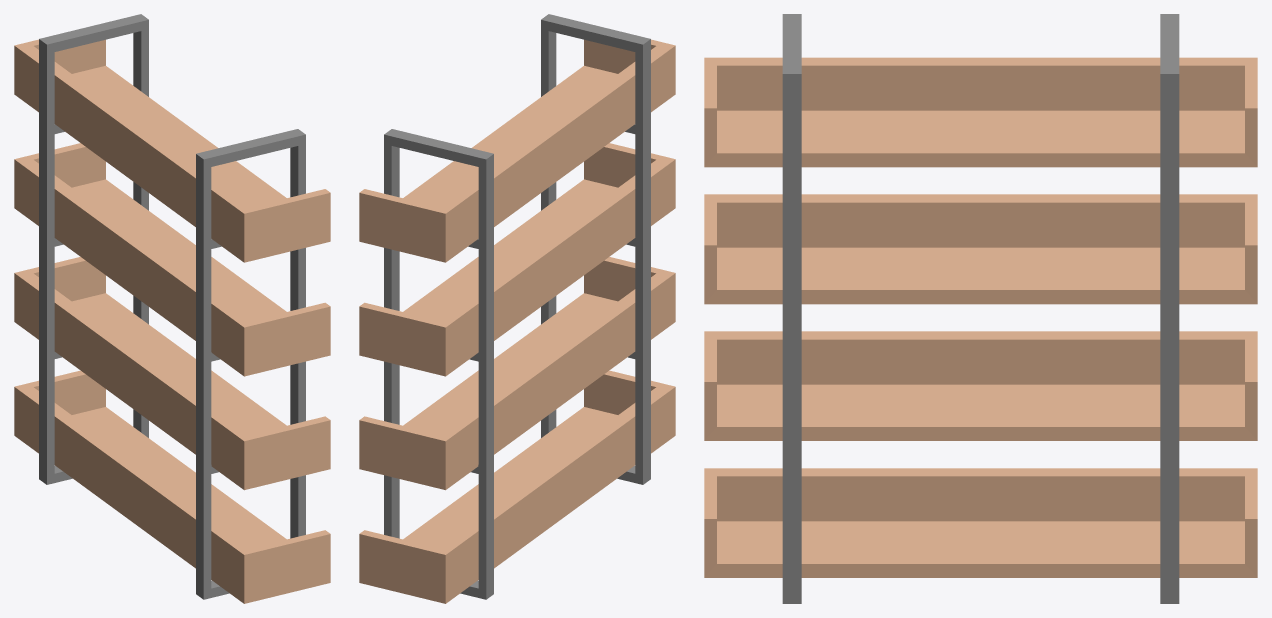
Rendered from furniture_2.FBX.
3 views of the same model, side by side, from view 1: azimuth 30°, elevation 25°; view 2: azimuth 150°, elevation 25°; view 3: azimuth 270°, elevation 25° (orthographic). The views are drawn at different scales.
Visible parts, largest first — view 1: furniture_2; view 2: furniture_2; view 3: furniture_2.
Boxes of the visible parts, <box> form: furniture_2: <box>14,14,330,603</box>; furniture_2: <box>359,14,675,603</box>; furniture_2: <box>704,14,1257,603</box>.
Size of the model in its own units: 5.08 by 20.91 by 19.8.
